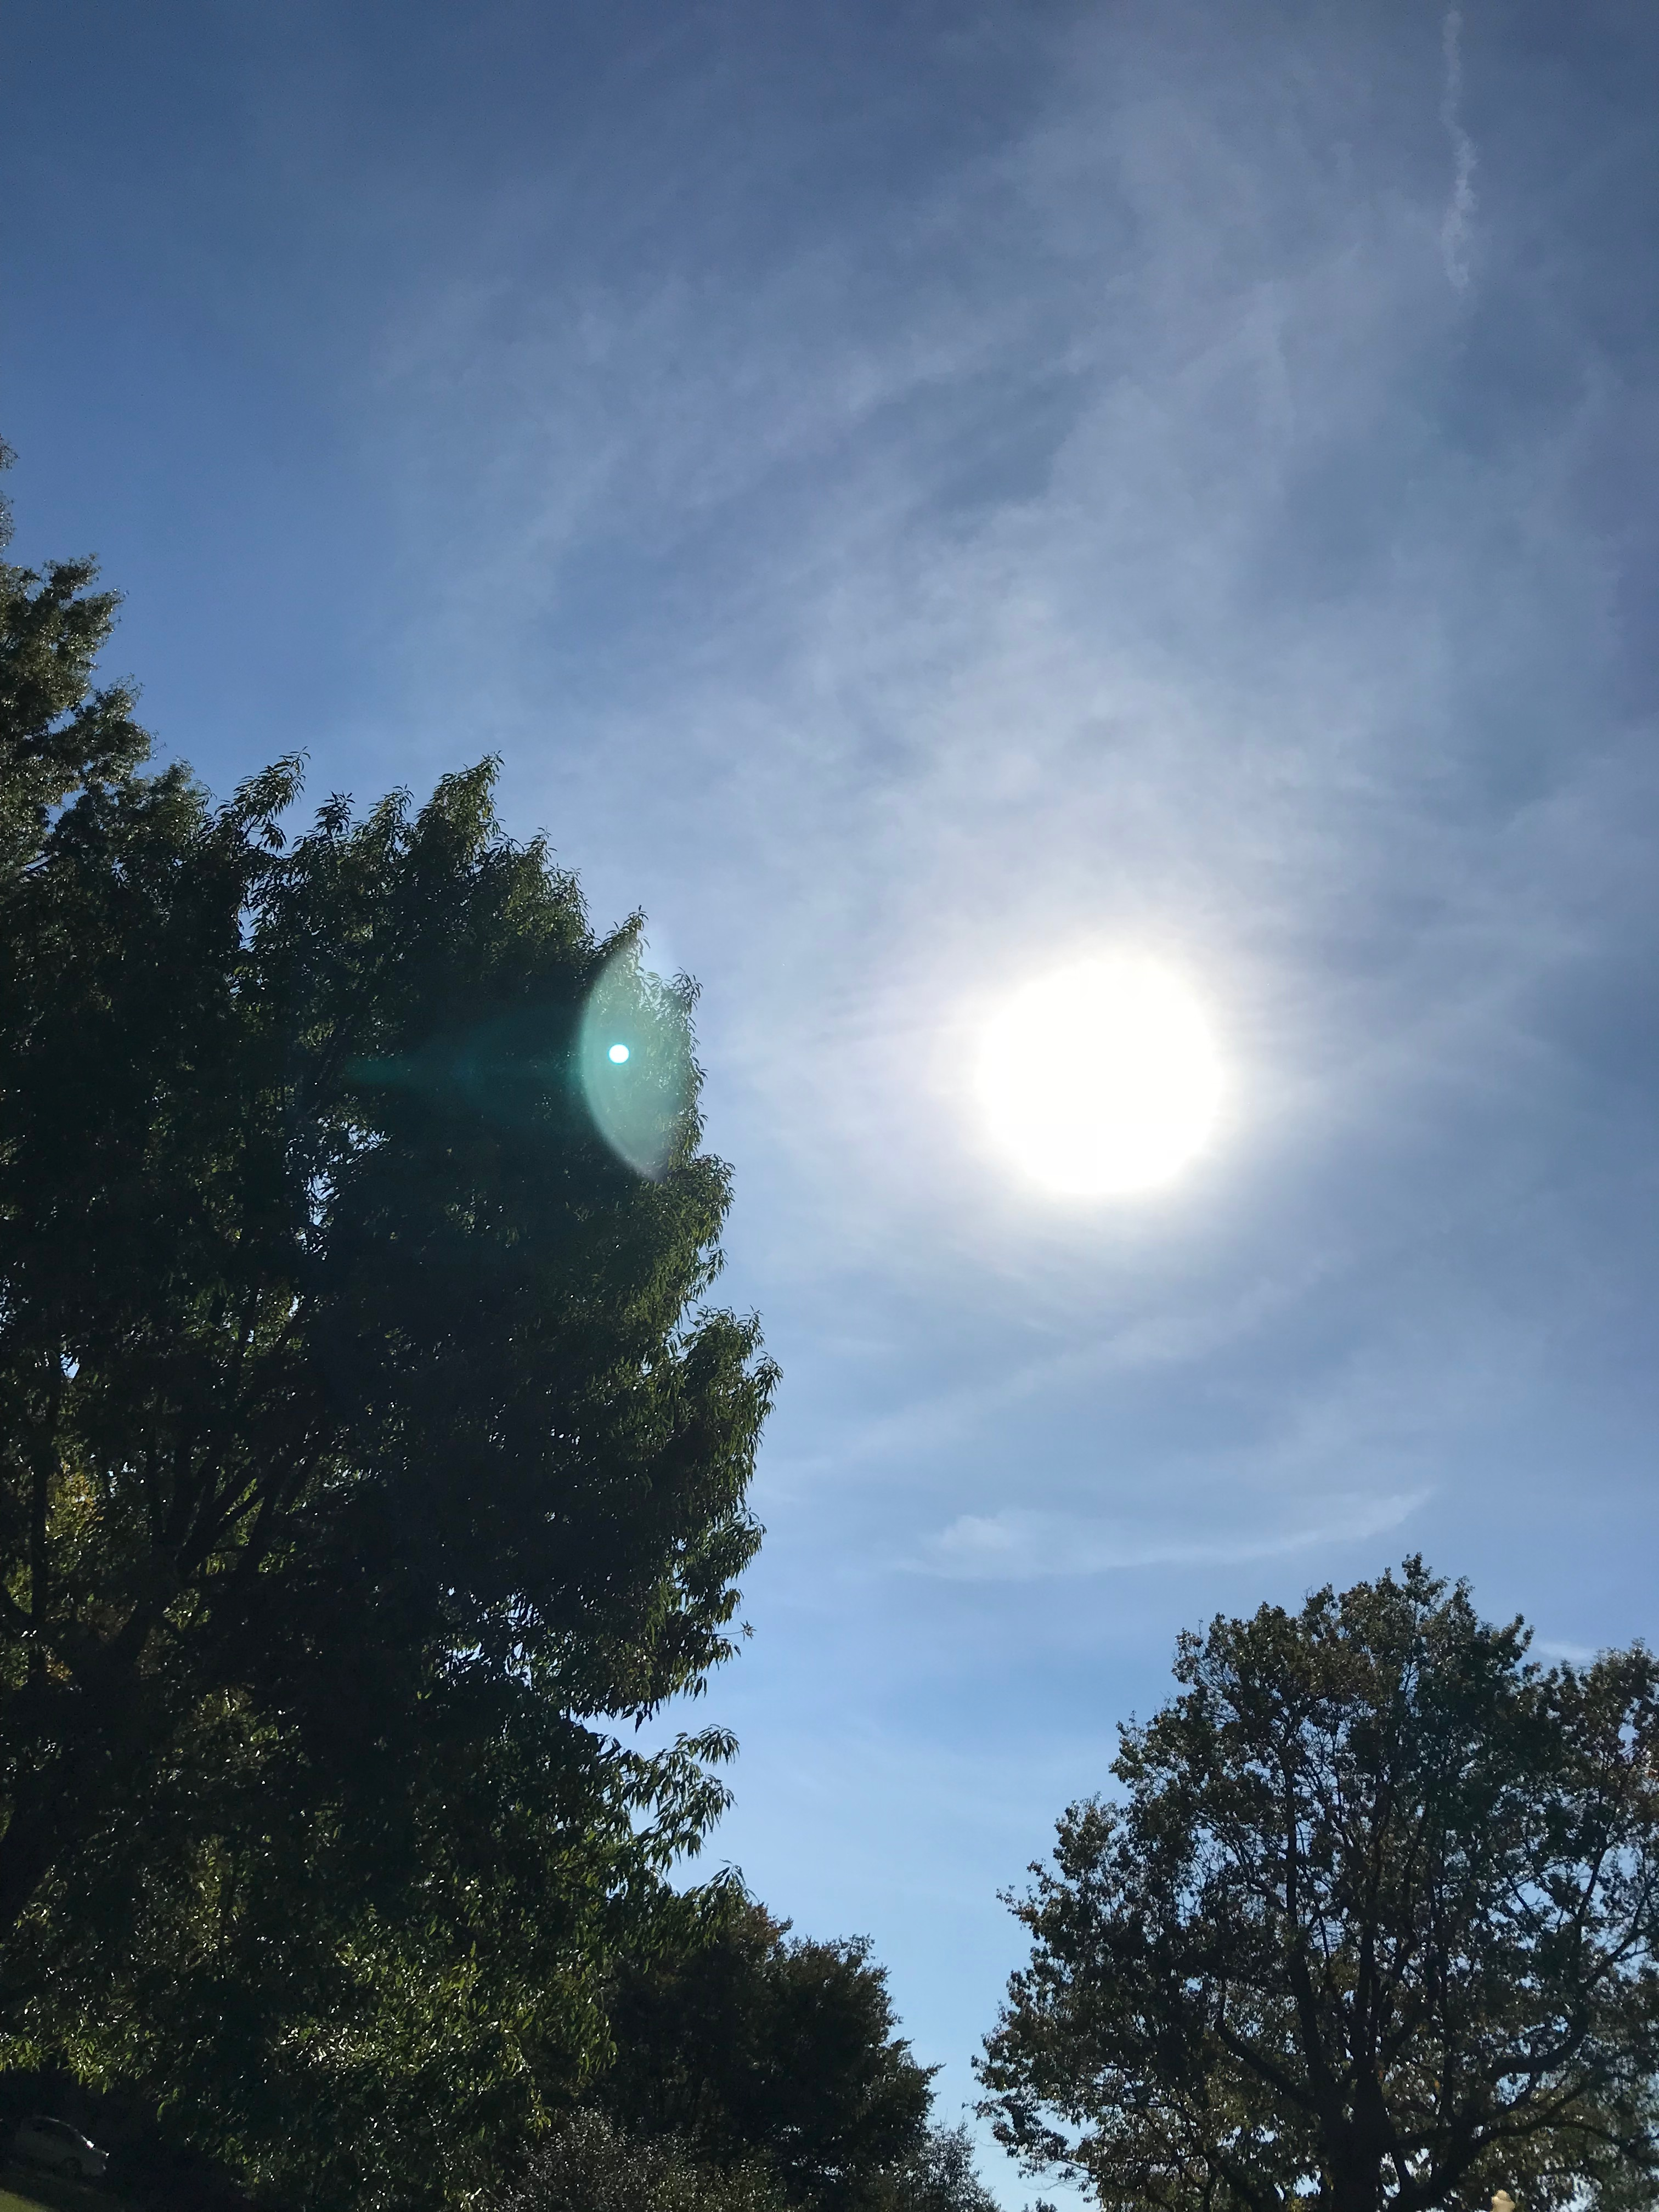flare: (606, 1042, 633, 1066)
